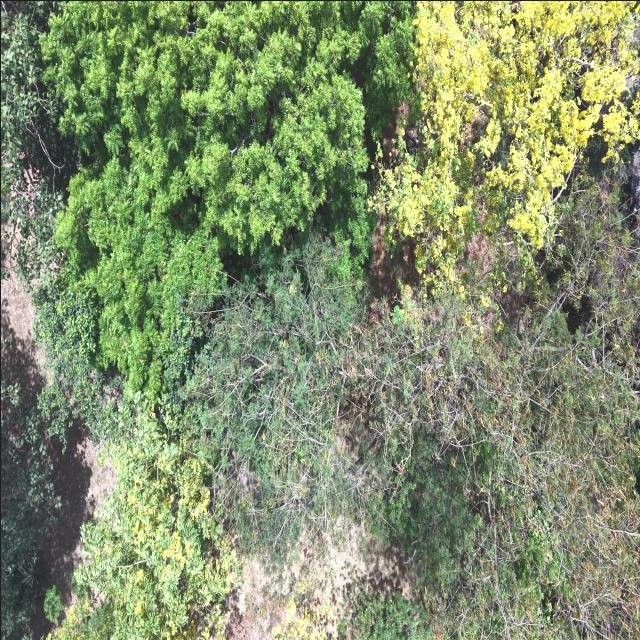DRY_AREA: (1, 105, 75, 404), (225, 522, 411, 639), (225, 523, 410, 639), (226, 523, 409, 639), (226, 524, 410, 639), (44, 419, 115, 604), (44, 420, 115, 602), (1, 275, 43, 403), (371, 206, 420, 310), (371, 206, 419, 309)
VEGETATION_TREE: (1, 1, 639, 639), (42, 2, 408, 390), (370, 170, 639, 637), (374, 1, 639, 309), (189, 237, 364, 569), (53, 398, 233, 639), (1, 2, 75, 286), (1, 3, 68, 286), (1, 379, 59, 639), (340, 586, 438, 639), (272, 595, 328, 639)
